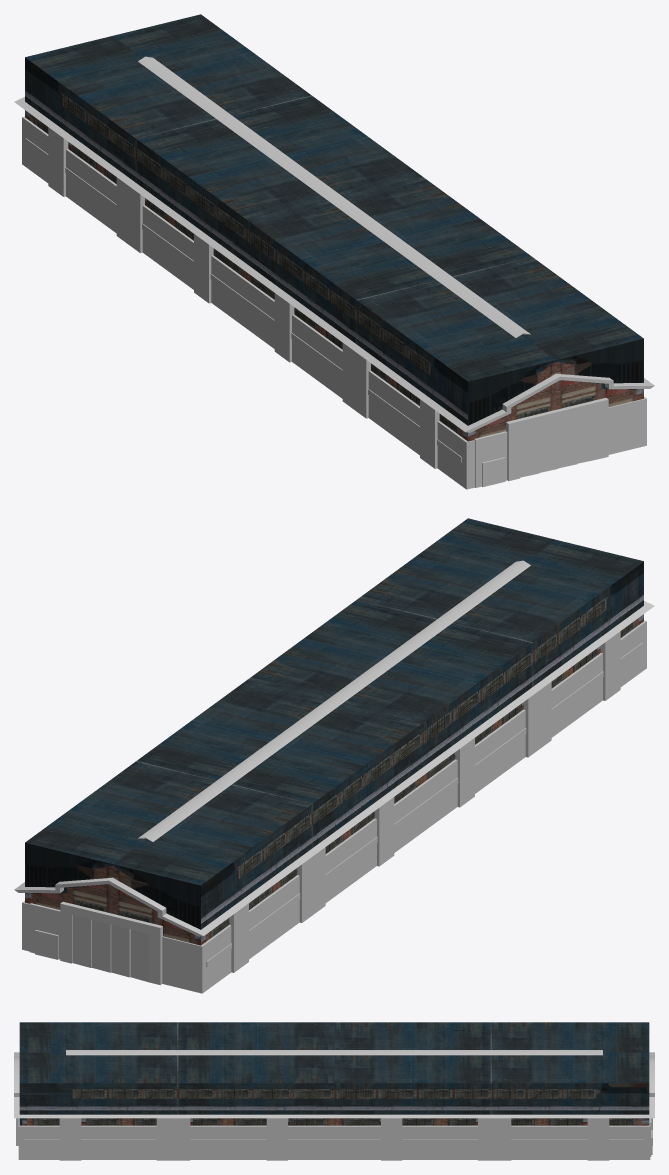
File: dz_industrial_16.fbx
The picture shows the model from 3 angles, top to bottom: view 1: azimuth 30°, elevation 25°; view 2: azimuth 150°, elevation 25°; view 3: azimuth 270°, elevation 25°; orthographic projection. The views are drawn at different scales.
Parts seen in each view (by area): view 1: dz_industrial_16_LOD0; view 2: dz_industrial_16_LOD0; view 3: dz_industrial_16_LOD0.
Part boxes in pixels (x1,y1,x2,y2): dz_industrial_16_LOD0: [14, 14, 654, 489]; dz_industrial_16_LOD0: [14, 518, 654, 993]; dz_industrial_16_LOD0: [14, 1022, 654, 1160].
Size of what is drawn, in the model's own units: 33 by 18.27 by 136.
